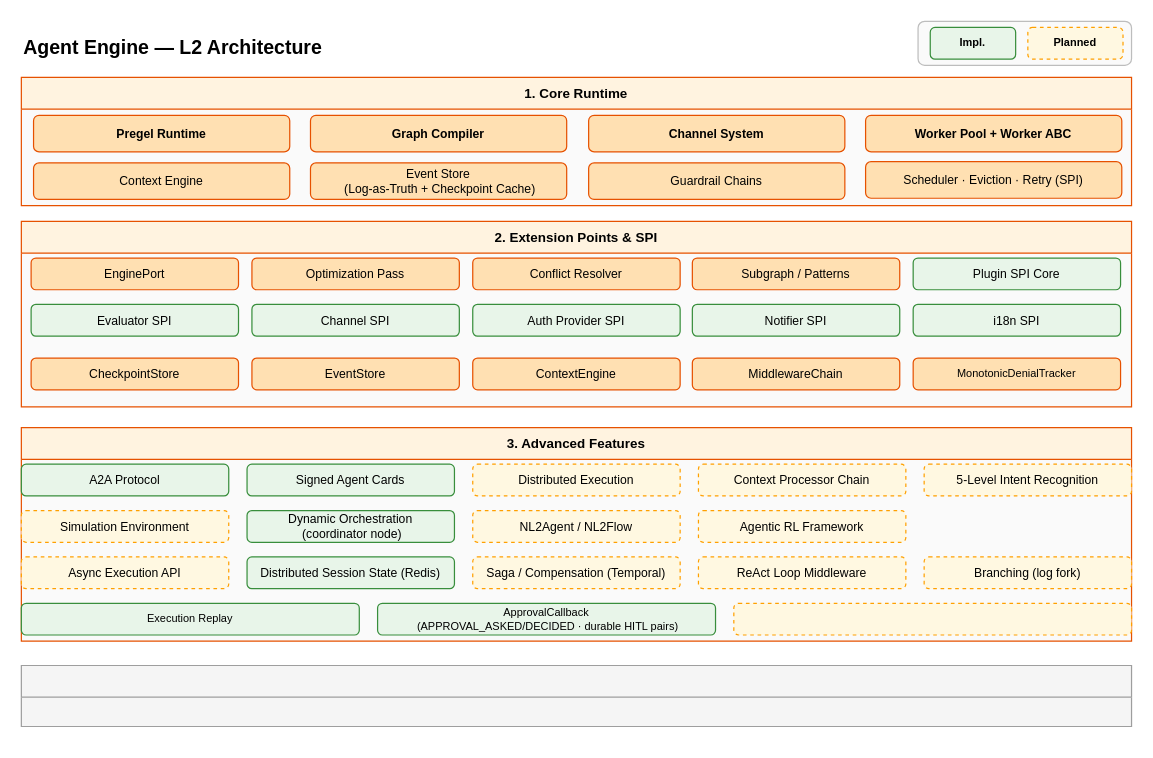
This 1153x758 diagram has some shape labels left out. Here are the shapes that lost their labels. From the top down, the centre of each, then its label:
[932,618]: ShellAnalyzer (content-aware tool gating · P5)
[576,695]: To Services Layer — LLM / Tools / Knowledge / Checkpoint Cache via EnginePort
